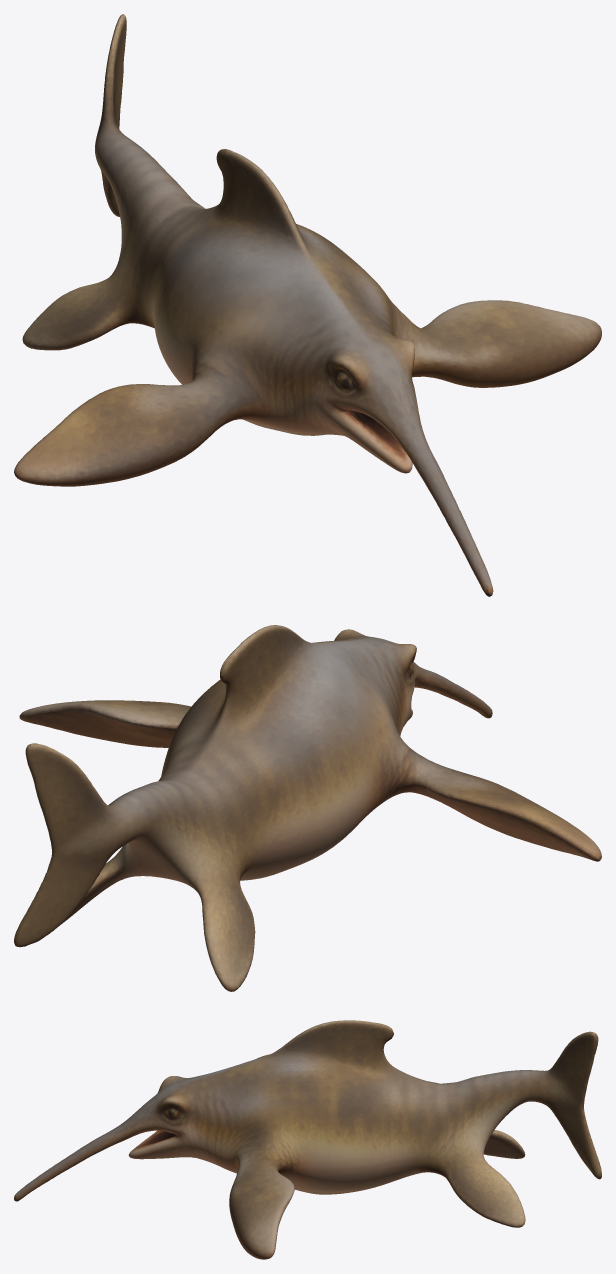
3 views of the same model, one above another, from view 1: azimuth 30°, elevation 25°; view 2: azimuth 150°, elevation 25°; view 3: azimuth 270°, elevation 25° (orthographic). The views are drawn at different scales.
Visible parts, largest first — view 1: world; view 2: world; view 3: world.
Boxes of the visible parts, left/top/right/bottom form: world: left=14, top=14, right=601, bottom=596; world: left=14, top=625, right=601, bottom=991; world: left=14, top=1020, right=601, bottom=1259.
Bounding box in the file's own units: 3.09 × 1.34 × 3.85.
1 material, 1 textured.
